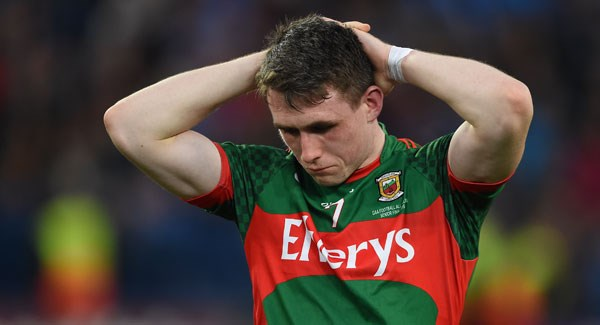player: (179, 19, 536, 313)
